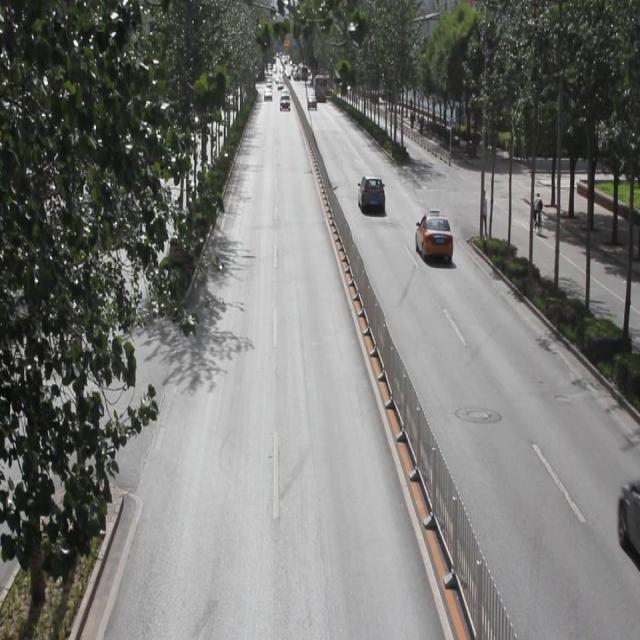car: (414, 212, 453, 266), (357, 174, 385, 217)
